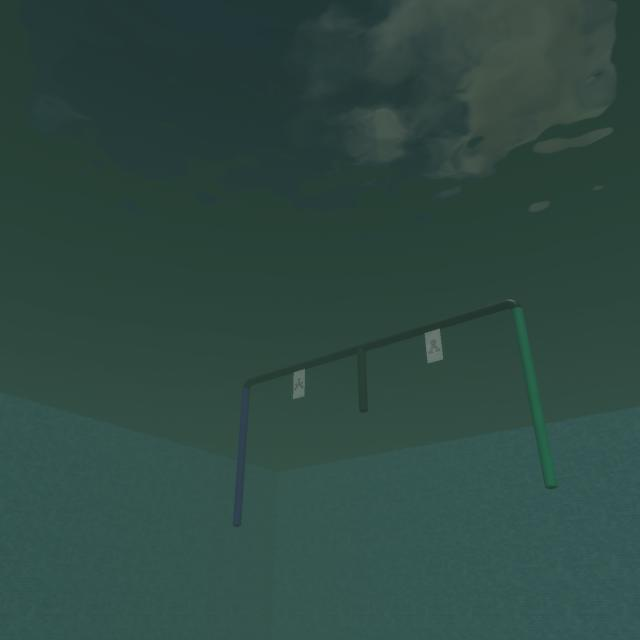abydos: (293, 377, 304, 391)
earth: (426, 339, 442, 354)
gate: (228, 293, 560, 530)
